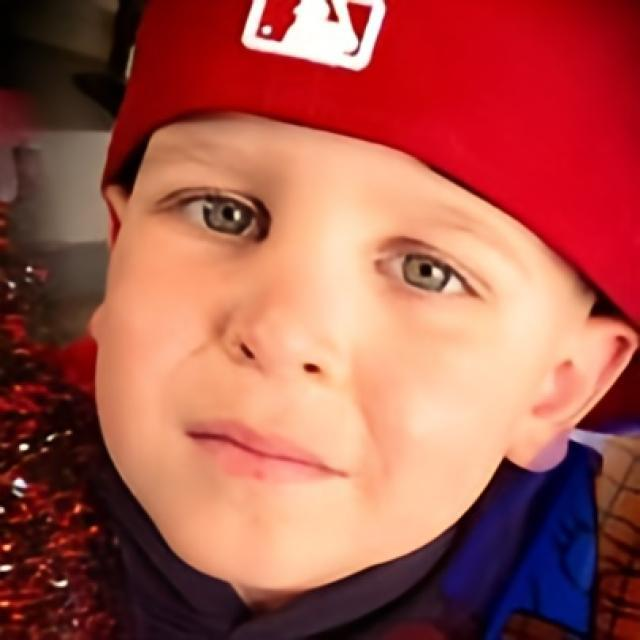neutral: (94, 109, 518, 593)
